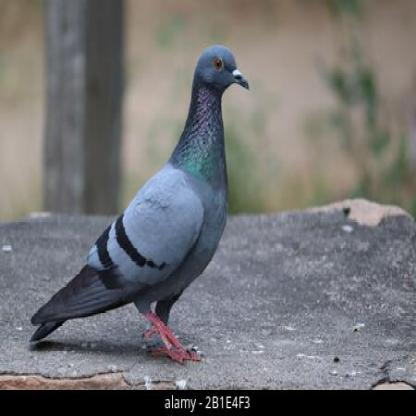Flying Rat: (35, 39, 251, 362)
